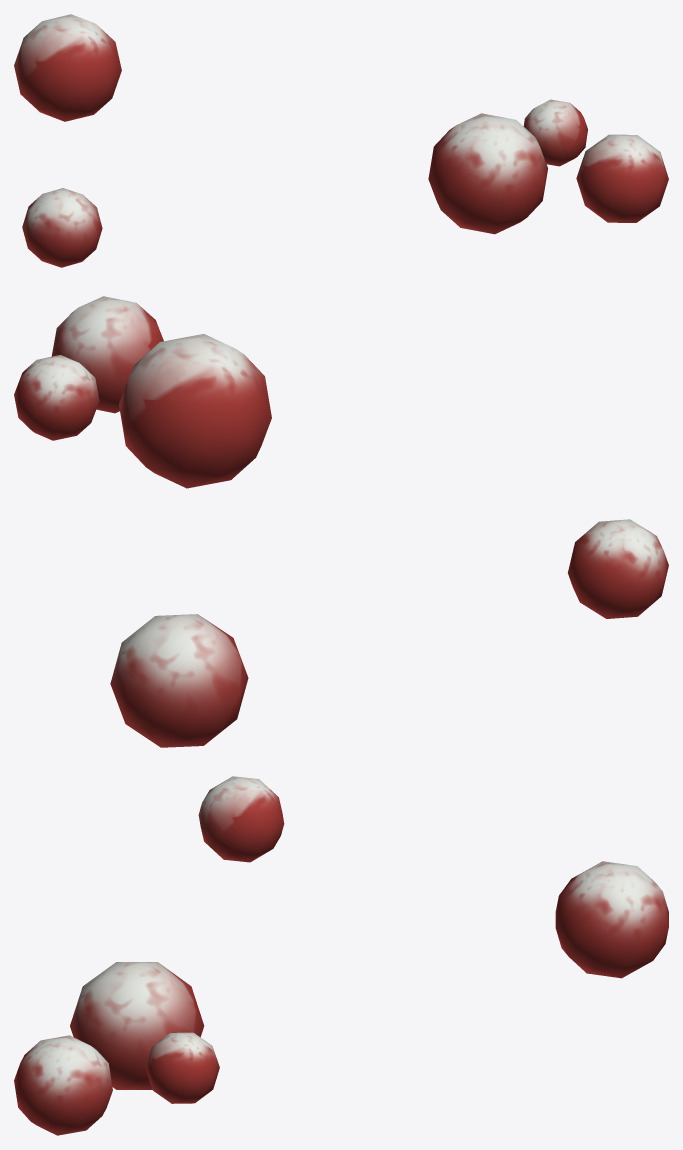
The model's file is mushroom.dae.
The picture shows the model from 3 angles, top to bottom: view 1: azimuth 30°, elevation 25°; view 2: azimuth 150°, elevation 25°; view 3: azimuth 270°, elevation 25°; orthographic projection. The views are drawn at different scales.
Parts seen in each view (by area): view 1: Icosphere.008; view 2: Icosphere.008; view 3: Icosphere.008.
Part boxes in pixels (box(x1,y1,x2,y2)): Icosphere.008: box(14, 14, 668, 267); Icosphere.008: box(14, 296, 668, 747); Icosphere.008: box(14, 776, 668, 1135).
Bounding box in the file's own units: 2.14 × 1.99 × 0.4093.
Materials: 1 (1 with a texture image).
